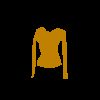maglia: (30, 27, 68, 78)
